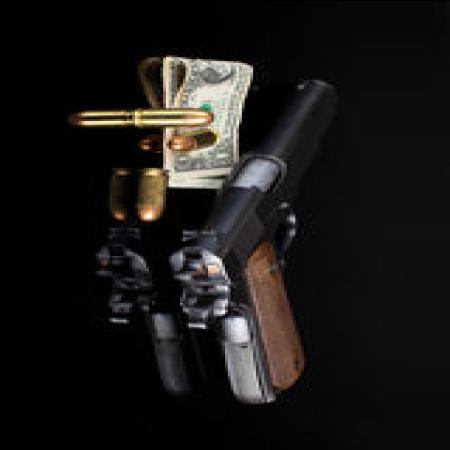Pistol: (175, 73, 344, 405)
